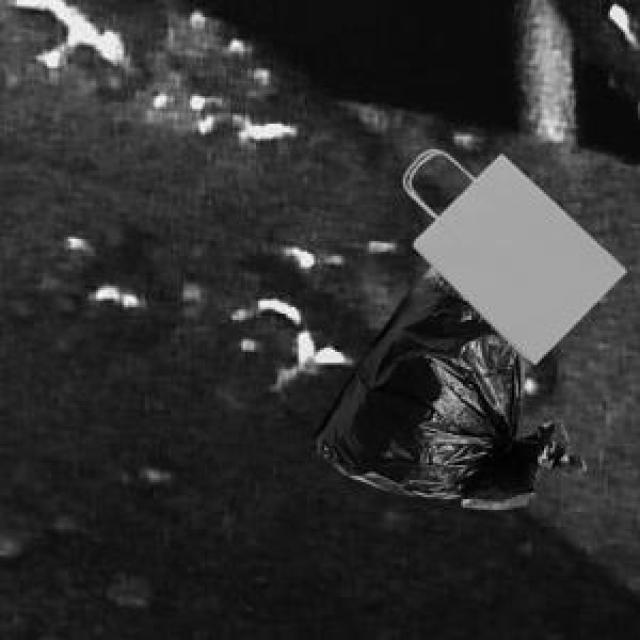miscellaneous trash: (307, 262, 582, 506)
paper: (403, 152, 621, 361)
